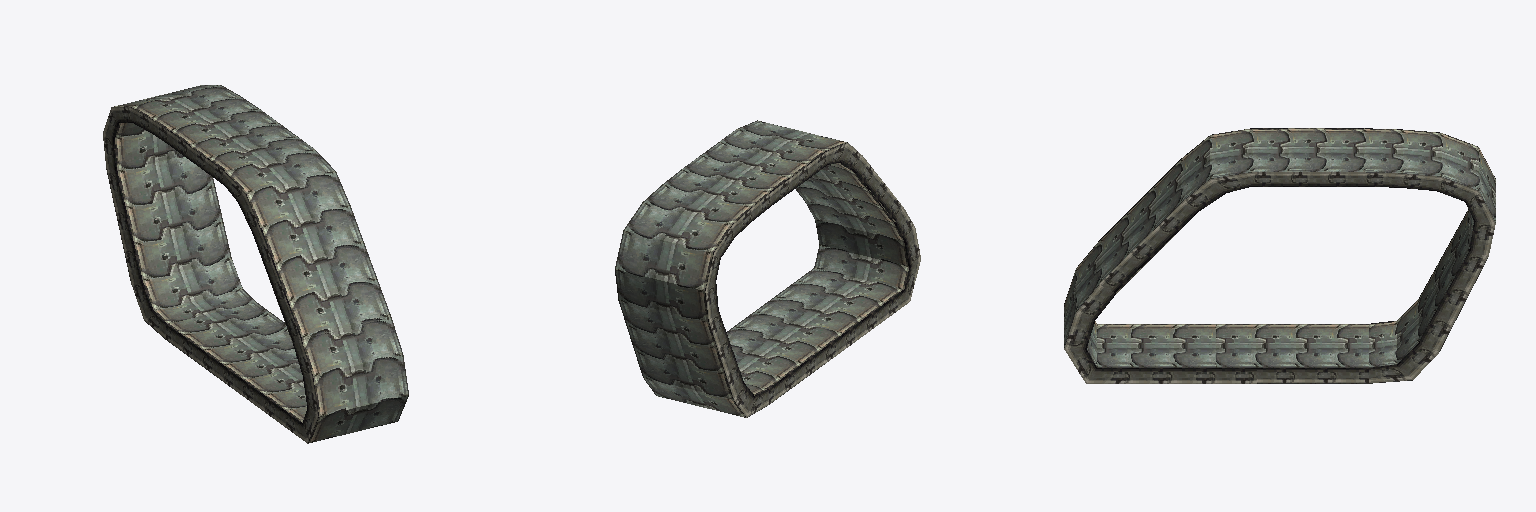
3 renders of one model, left to right at view 1: azimuth 30°, elevation 25°; view 2: azimuth 150°, elevation 25°; view 3: azimuth 270°, elevation 25°, orthographic.
Visible parts, largest first — view 1: R_TRACK; view 2: R_TRACK; view 3: R_TRACK.
Part boxes in pixels (bbox=[...]): R_TRACK: bbox=[103, 85, 408, 443]; R_TRACK: bbox=[615, 120, 920, 417]; R_TRACK: bbox=[1064, 128, 1495, 383].
Bounding box in the file's own units: 1.37 × 3.06 × 5.66.
Materials: 1 (1 with a texture image).